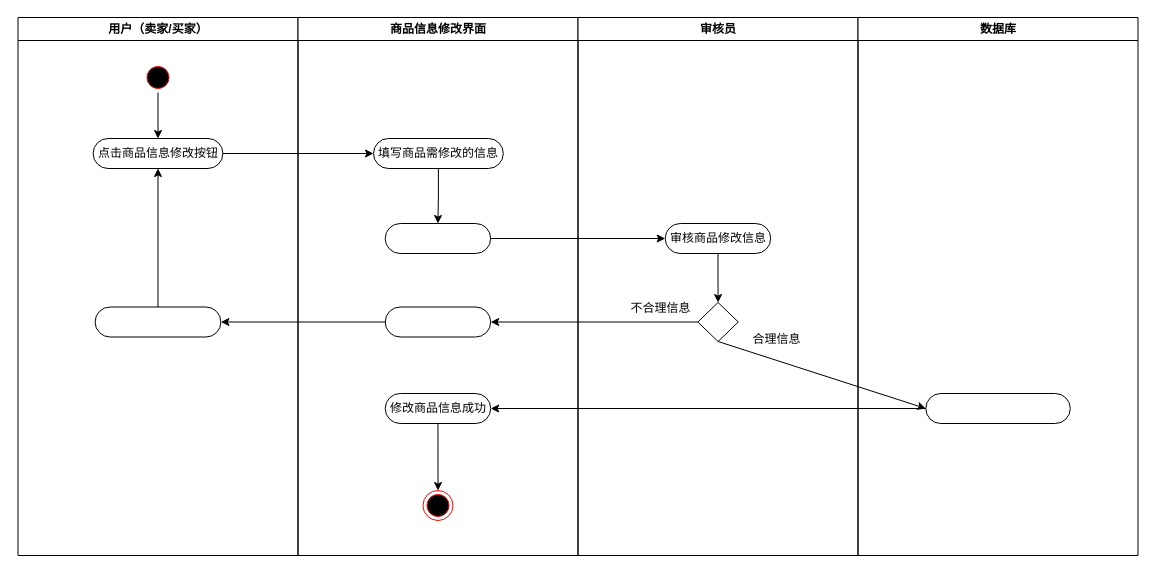
Image size: 1155x573. Some labels were removed from this diagram. Here are the shapes that lost their labels. From the top down, the centre of each, then its label:
point 437,238: 点击确认修改按钮
point 157,321: 重新填写需修改信息
point 437,321: 审核不通过
point 997,408: 数据库中更新该商品信息
